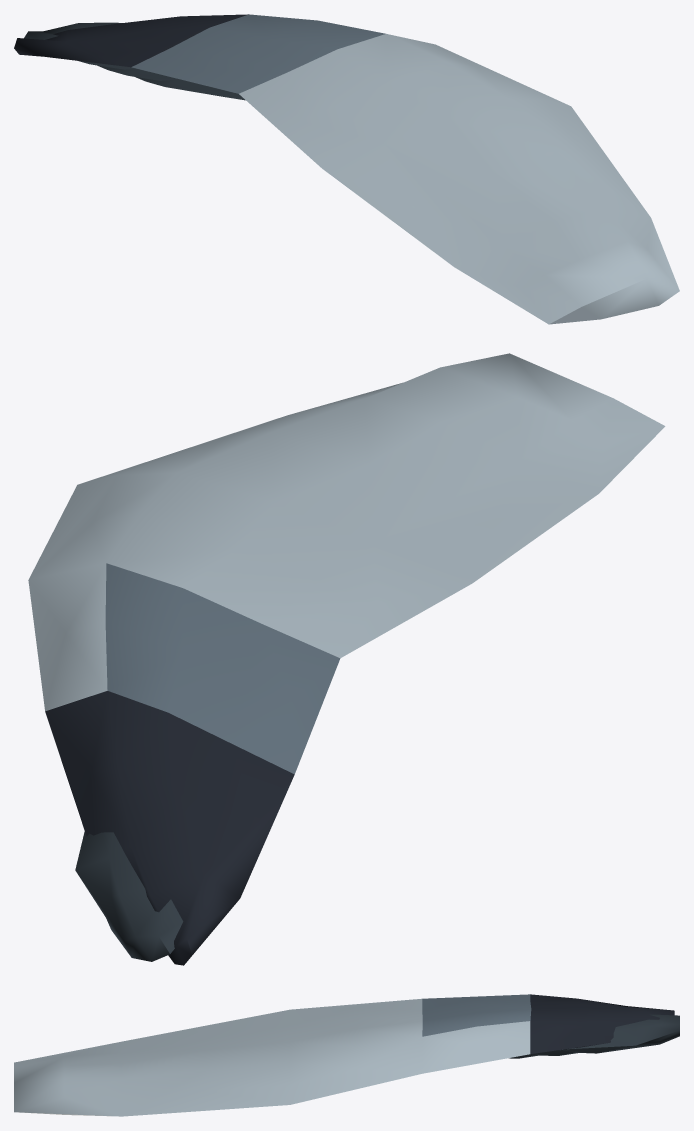
File: SM_GullWingL.fbx
3 views of the same model, one above another, from view 1: azimuth 30°, elevation 25°; view 2: azimuth 150°, elevation 25°; view 3: azimuth 270°, elevation 25° (orthographic). The views are drawn at different scales.
Visible parts, largest first — view 1: SM_GullWingL; view 2: SM_GullWingL; view 3: SM_GullWingL.
Boxes of the visible parts, x1,y1,x2,y2 form: SM_GullWingL: [14, 14, 679, 324]; SM_GullWingL: [28, 353, 665, 965]; SM_GullWingL: [14, 994, 679, 1116].
Size of the model in its own units: 24 by 55.45 by 6.35.
1 material, 1 textured.
